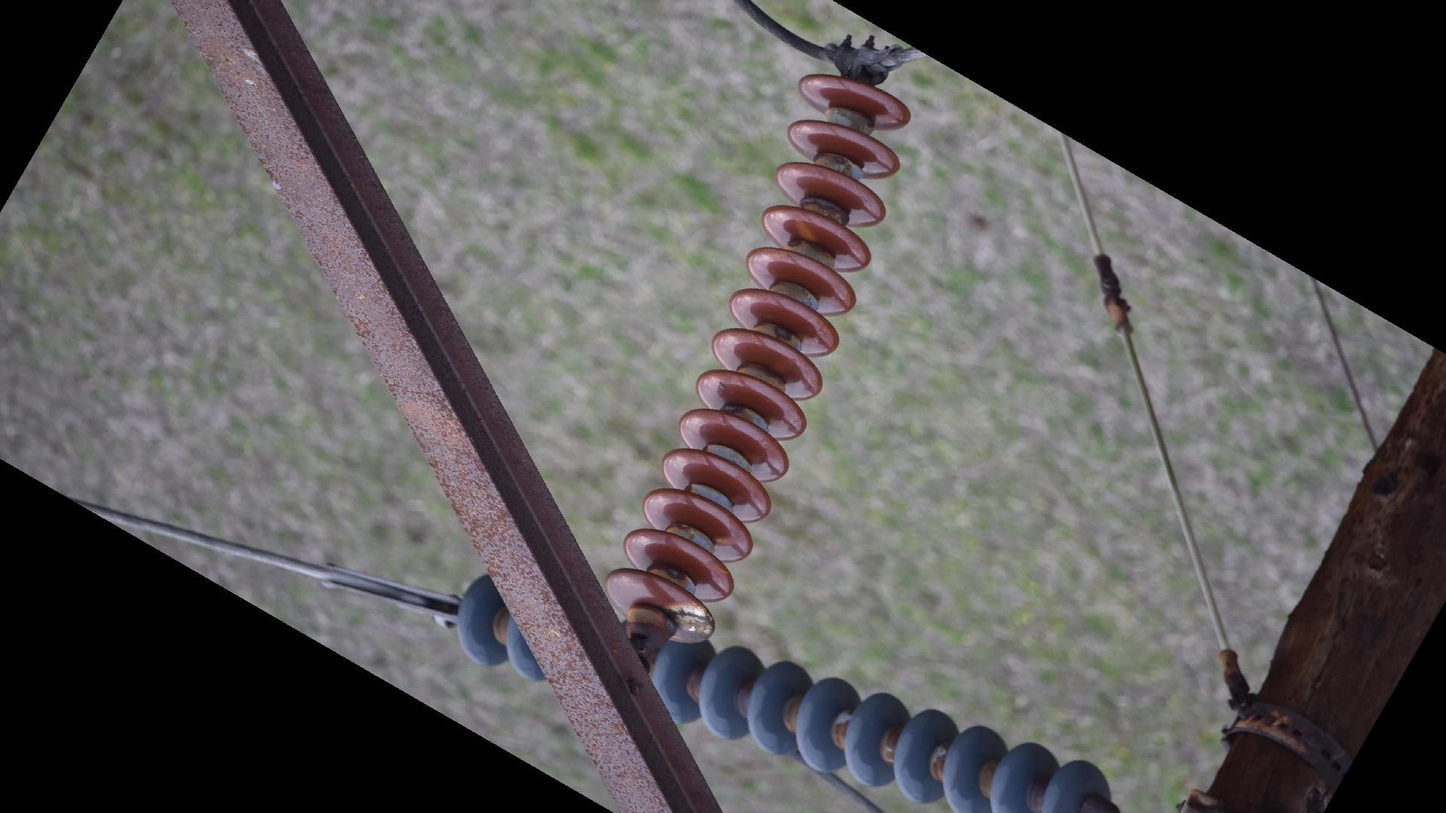insulator: (602, 67, 919, 645), (649, 637, 1117, 813), (450, 569, 548, 692)
insulator_flashover: (667, 598, 717, 638), (792, 215, 816, 244)
